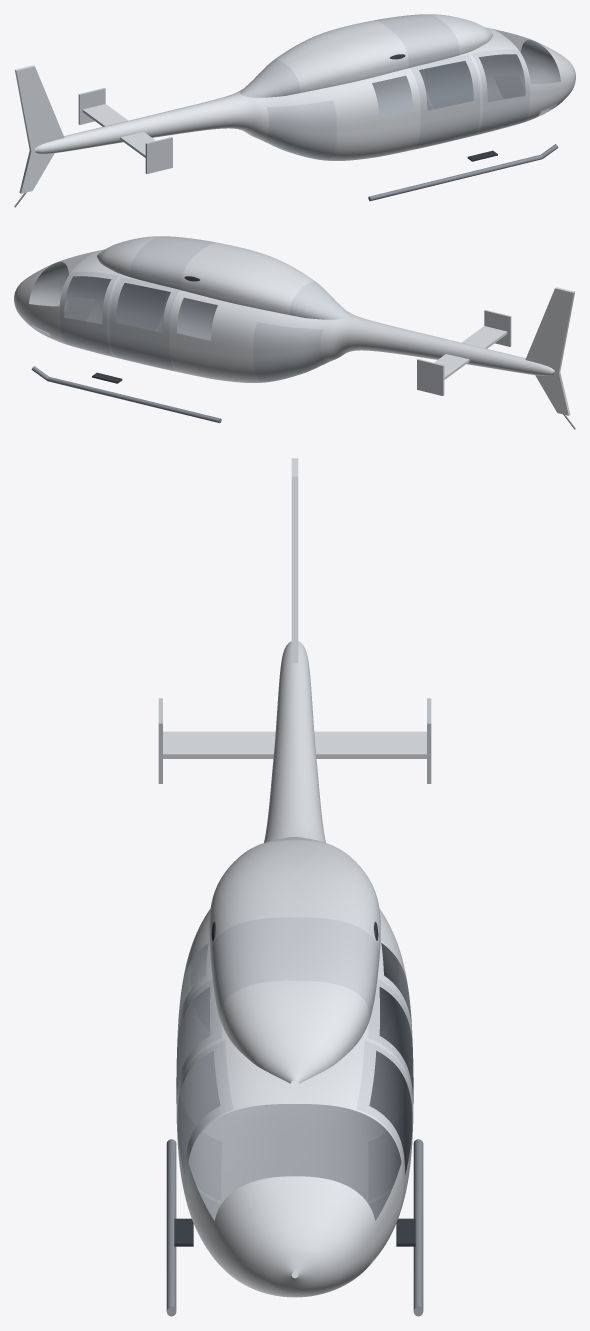
Rendered from heli_429.glb.
The picture shows the model from 3 angles, top to bottom: view 1: azimuth 30°, elevation 25°; view 2: azimuth 150°, elevation 25°; view 3: azimuth 270°, elevation 25°; orthographic projection. The views are drawn at different scales.
Parts seen in each view (by area): view 1: fuselagem, carenagem_motor, cone_cauda, porta_bag, deriva, porta_pax_R, carenagem_trans, fus_traseira, porta_trip_R, porta_pax_R.001, nariz, porta_trip_L (+10 smaller); view 2: fuselagem, carenagem_motor, cone_cauda, porta_bag, deriva, porta_pax_L, carenagem_trans, fus_traseira, porta_trip_L, porta_pax_L.001, nariz, porta_trip_R (+10 smaller); view 3: fuselagem, nariz, parabrisa, carenagem_motor, carenagem_diant, carenagem_trans, cone_cauda, estabilizador, porta_pax_L, porta_pax_R, porta_trip_L.001, porta_trip_R.001 (+9 smaller).
Boxes of the visible parts, box(x1,y1,x2,y2) form: fuselagem: box(326, 27, 561, 160); carenagem_motor: box(274, 20, 408, 92); cone_cauda: box(35, 98, 232, 153); porta_bag: box(260, 100, 336, 160); deriva: box(15, 65, 64, 193); porta_pax_R: box(410, 55, 480, 149); carenagem_trans: box(373, 14, 459, 68); fus_traseira: box(221, 87, 332, 139); porta_trip_R: box(471, 49, 529, 135); porta_pax_R.001: box(419, 61, 473, 110); nariz: box(520, 39, 575, 107); porta_trip_L: box(424, 61, 473, 108); fuselagem: box(28, 249, 263, 382); carenagem_motor: box(181, 242, 315, 314); cone_cauda: box(357, 320, 554, 375); porta_bag: box(253, 322, 329, 382); deriva: box(525, 287, 574, 415); porta_pax_L: box(109, 277, 179, 371); carenagem_trans: box(130, 236, 216, 290); fus_traseira: box(257, 309, 368, 361); porta_trip_L: box(60, 271, 118, 357); porta_pax_L.001: box(116, 283, 170, 332); nariz: box(14, 261, 69, 329); porta_trip_R: box(116, 283, 165, 330); fuselagem: box(177, 913, 412, 1278); nariz: box(213, 1176, 376, 1297); parabrisa: box(189, 1104, 400, 1266); carenagem_motor: box(209, 840, 380, 961); carenagem_diant: box(221, 980, 368, 1083); carenagem_trans: box(210, 917, 379, 1023); cone_cauda: box(264, 641, 325, 841); estabilizador: box(160, 731, 429, 758); porta_pax_L: box(368, 979, 413, 1201); porta_pax_R: box(176, 979, 221, 1201); porta_trip_L.001: box(369, 1051, 412, 1174); porta_trip_R.001: box(177, 1051, 220, 1173).
Bounding box in the file's own units: 12.03 × 3.85 × 2.54.
